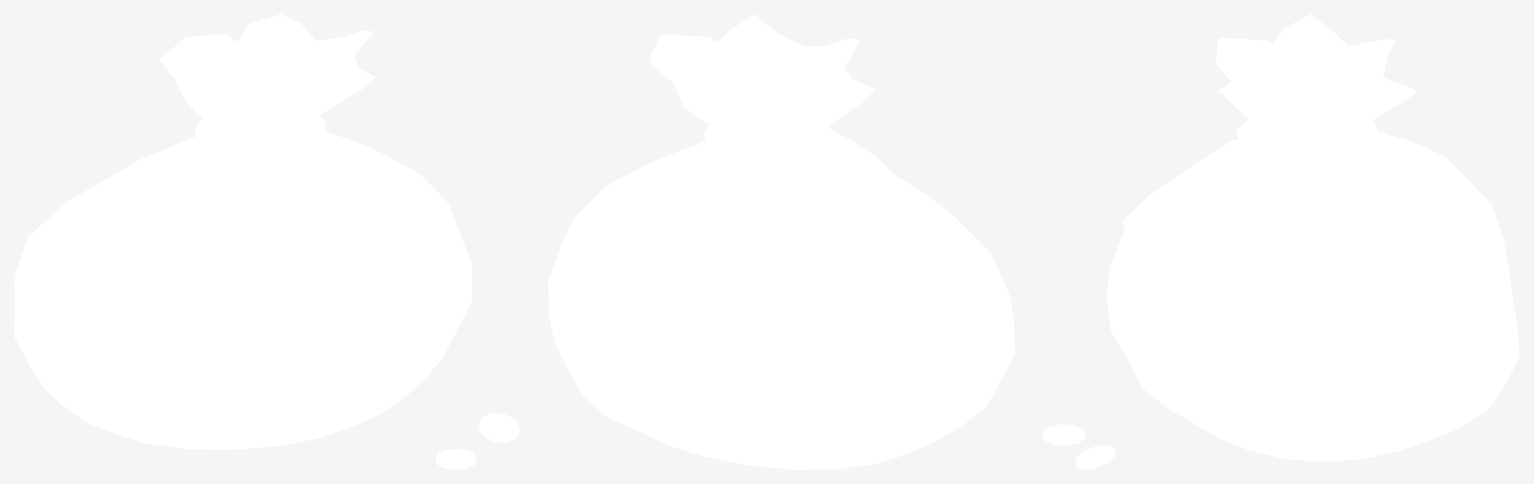
File: loot_bag.glb
3 renders of one model, left to right at view 1: azimuth 30°, elevation 25°; view 2: azimuth 150°, elevation 25°; view 3: azimuth 270°, elevation 25°, orthographic. The views are drawn at different scales.
Visible parts, largest first — view 1: loot_bag; view 2: loot_bag; view 3: loot_bag.
Part boxes in pixels (x1,y1,x2,y2): loot_bag: (14,14,519,469); loot_bag: (548,14,1014,469); loot_bag: (1043,14,1519,469).
Size of the model in its own units: 0.4559 by 0.3596 by 0.4497.
1 material, 1 textured.
